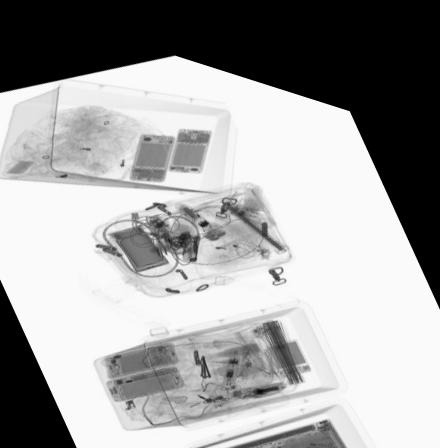Powerbank: (265, 318, 311, 359)
